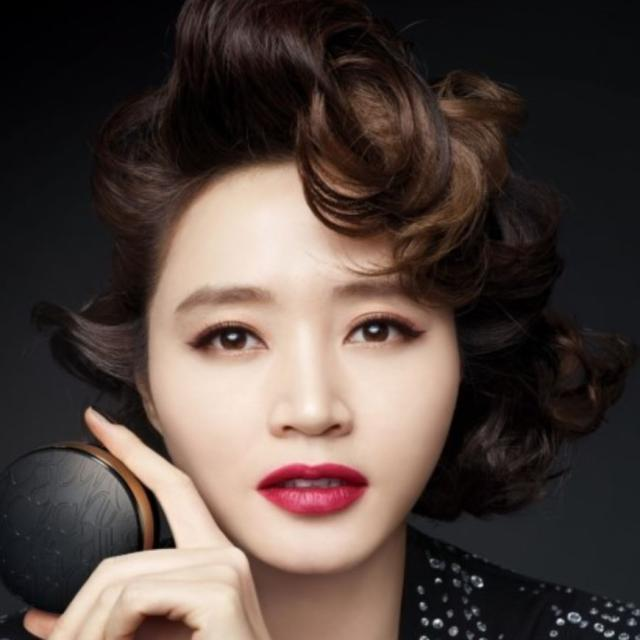face: (127, 124, 475, 581)
